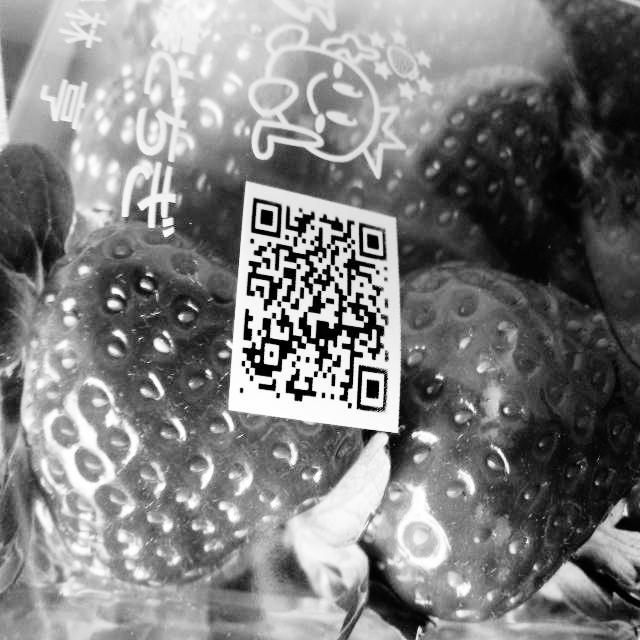qr_code: (239, 198, 389, 413)
